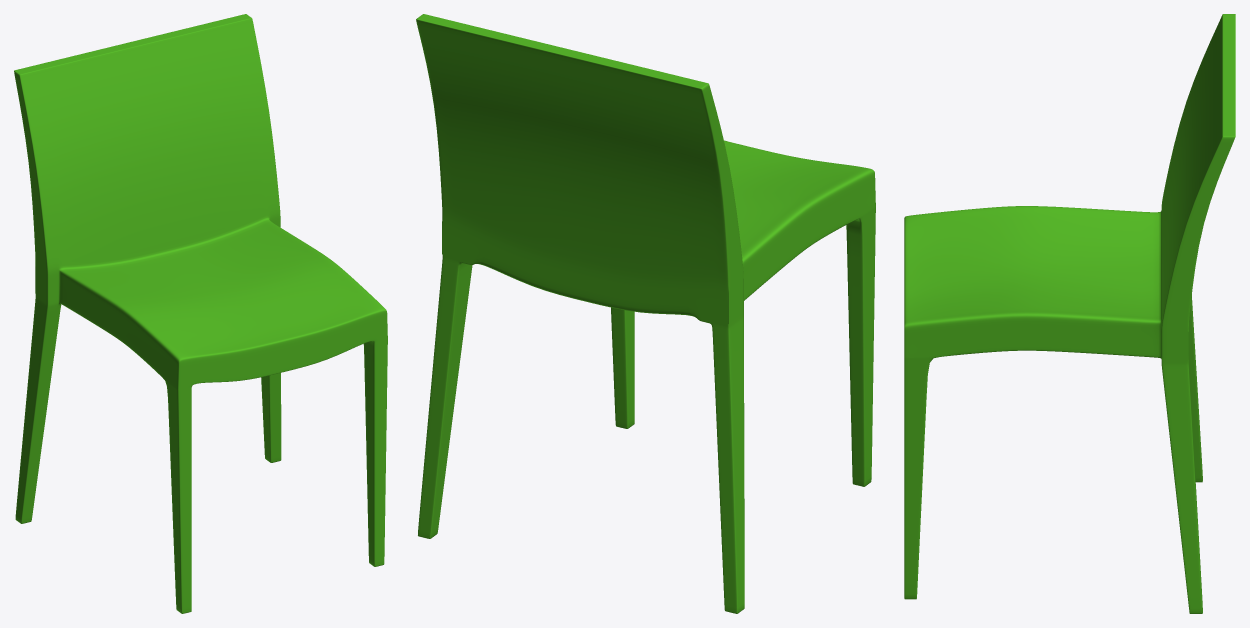
The model's file is chair6fbx.fbx.
The picture shows the model from 3 angles, left to right: view 1: azimuth 30°, elevation 25°; view 2: azimuth 150°, elevation 25°; view 3: azimuth 270°, elevation 25°; orthographic projection. The views are drawn at different scales.
Parts seen in each view (by area): view 1: Chair; view 2: Chair; view 3: Chair.
Part boxes in pixels (left/top/right/bottom): Chair: left=14, top=14, right=387, bottom=613; Chair: left=416, top=14, right=875, bottom=613; Chair: left=904, top=14, right=1235, bottom=613.
Bounding box in the file's own units: 50 × 80 × 51.
